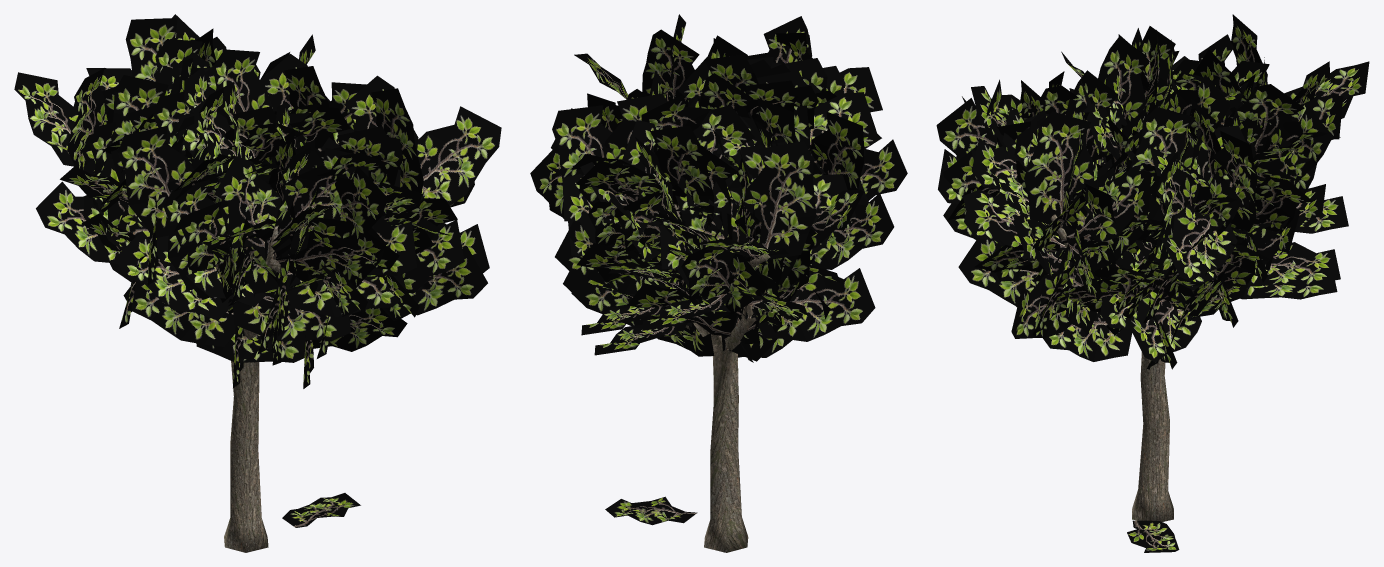
File: Tree1edit.glb
3 renders of one model, left to right at view 1: azimuth 30°, elevation 25°; view 2: azimuth 150°, elevation 25°; view 3: azimuth 270°, elevation 25°, orthographic. The views are drawn at different scales.
Visible parts, largest first — view 1: leaves (×61), tree1; view 2: leaves (×64), tree1; view 3: leaves (×64), tree1.
Part boxes in pixels (x1,y1,x2,y2): leaves (×61): (14, 18, 501, 527); tree1: (224, 225, 280, 552); leaves (×64): (530, 16, 907, 525); tree1: (674, 204, 770, 552); leaves (×64): (936, 14, 1369, 552); tree1: (1050, 214, 1194, 521).
Bounding box in the file's own units: 34.76 × 45.88 × 37.8.
Materials: 2 (2 with a texture image).
